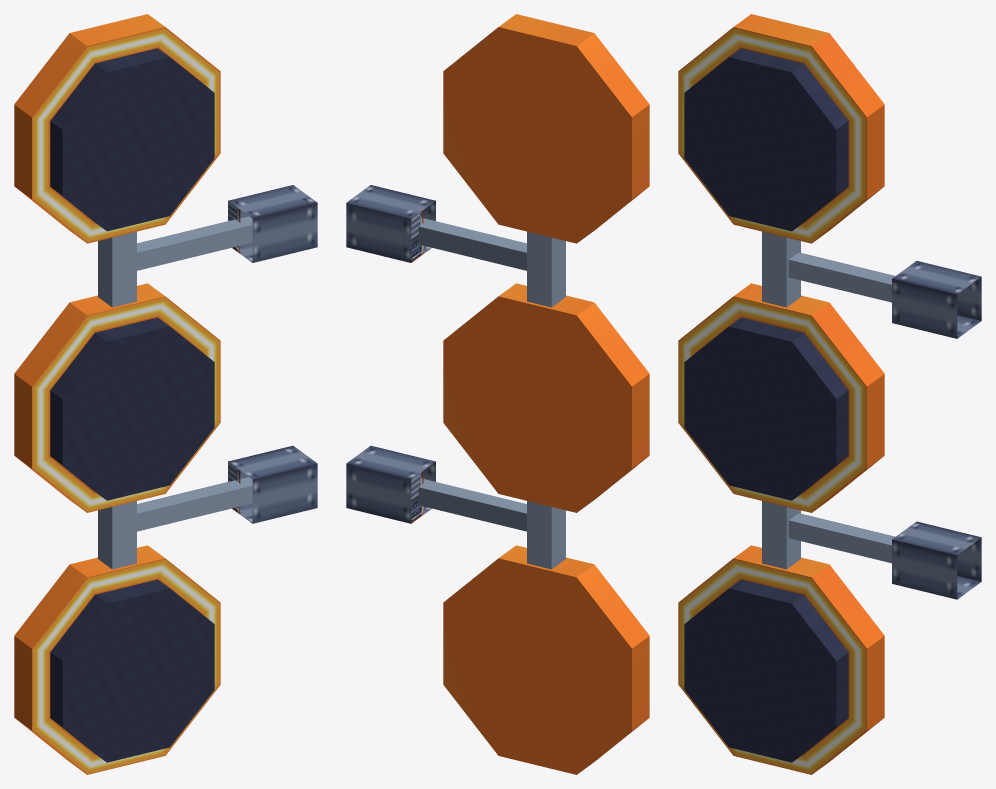
File: Letreiro_Circular.v1.fbx
3 renders of one model, left to right at view 1: azimuth 30°, elevation 25°; view 2: azimuth 150°, elevation 25°; view 3: azimuth 330°, elevation 25°, orthographic.
Visible parts, largest first — view 1: Letreiro Circular; view 2: Letreiro Circular; view 3: Letreiro Circular.
Part boxes in pixels (x1=…): Letreiro Circular: x1=14, y1=14, x2=317, y2=774; Letreiro Circular: x1=346, y1=14, x2=649, y2=774; Letreiro Circular: x1=678, y1=14, x2=981, y2=774.
Size of the model in its own units: 94.09 by 19.25 by 232.
